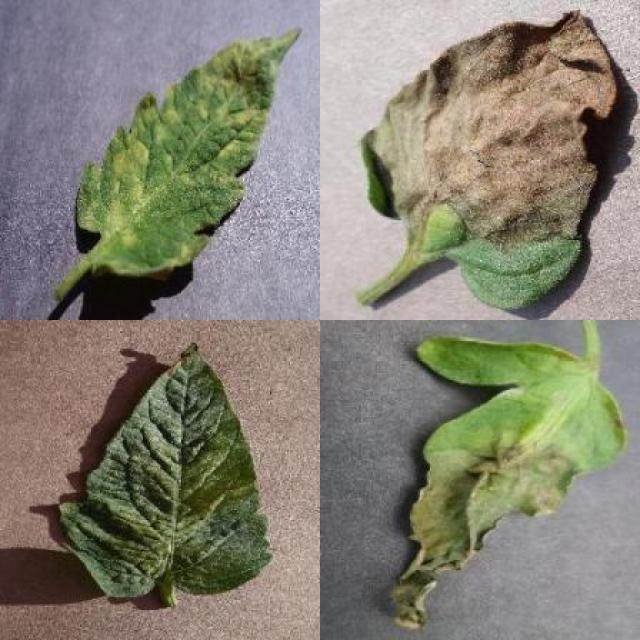Late Blight: (357, 10, 617, 307), (391, 335, 628, 629)
Leaf Mold: (77, 28, 300, 282)
Spider Mites: (60, 339, 273, 597)
